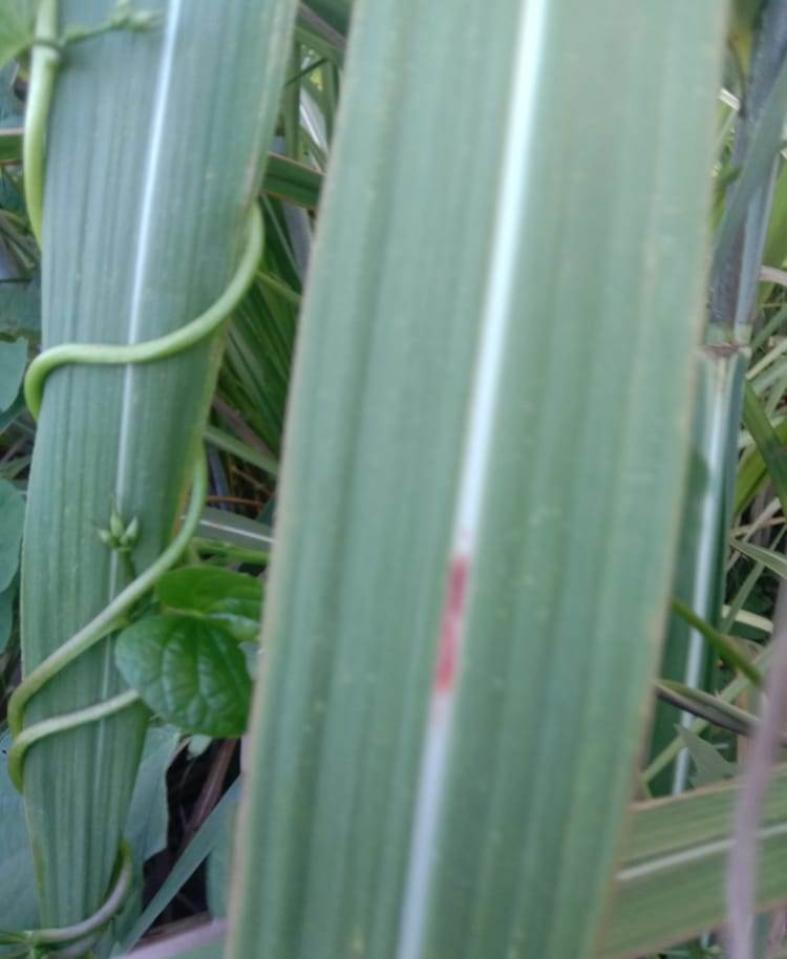RedRot: (434, 549, 471, 696)
